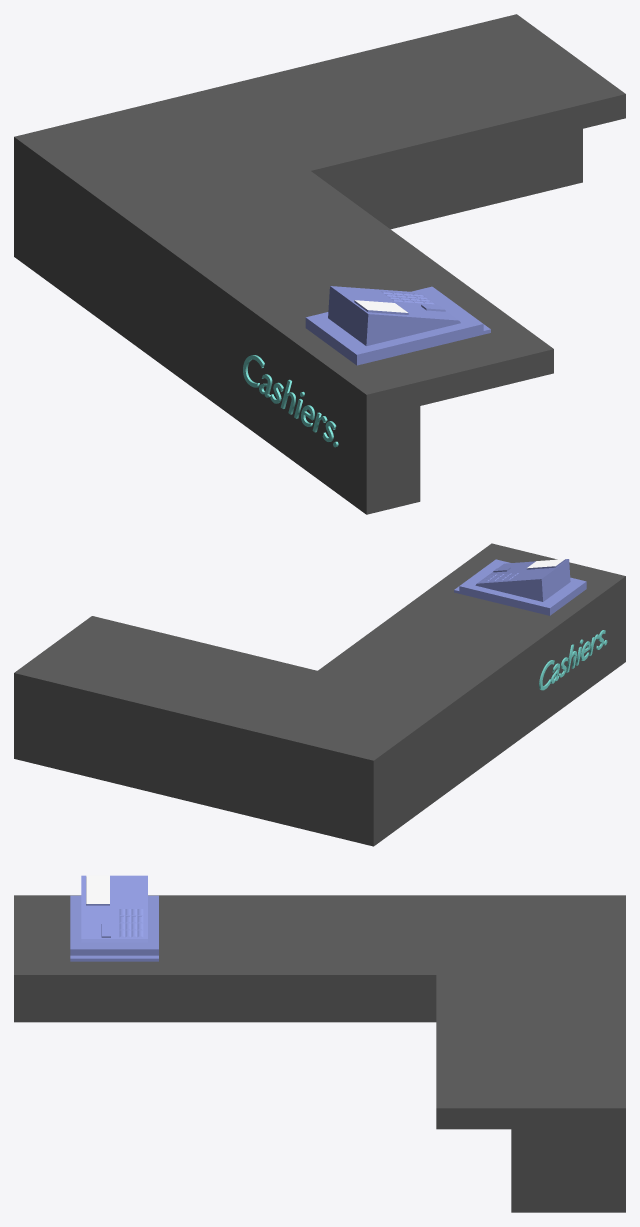
Rendered from Cashier_table.glb.
3 views of the same model, one above another, from view 1: azimuth 30°, elevation 25°; view 2: azimuth 150°, elevation 25°; view 3: azimuth 270°, elevation 25° (orthographic). The views are drawn at different scales.
Visible parts, largest first — view 1: Cube.074, Cube.075, Text; view 2: Cube.074, Cube.075, Text; view 3: Cube.074, Cube.075, Cube.001.
Boxes of the visible parts, <box> form: Cube.074: <box>14,14,625,514</box>; Cube.075: <box>305,286,490,365</box>; Text: <box>243,355,338,447</box>; Cube.074: <box>14,543,625,846</box>; Cube.075: <box>454,559,586,615</box>; Text: <box>539,630,607,690</box>; Cube.074: <box>14,895,625,1212</box>; Cube.075: <box>70,875,158,961</box>; Cube.001: <box>86,875,109,903</box>.
Size of the model in its own units: 18.72 by 5.81 by 22.64.
